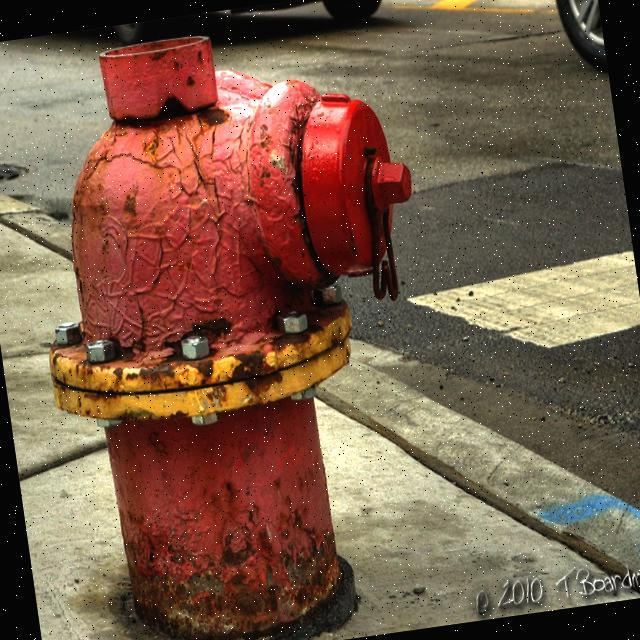fire_hydrant: (5, 4, 471, 640)
